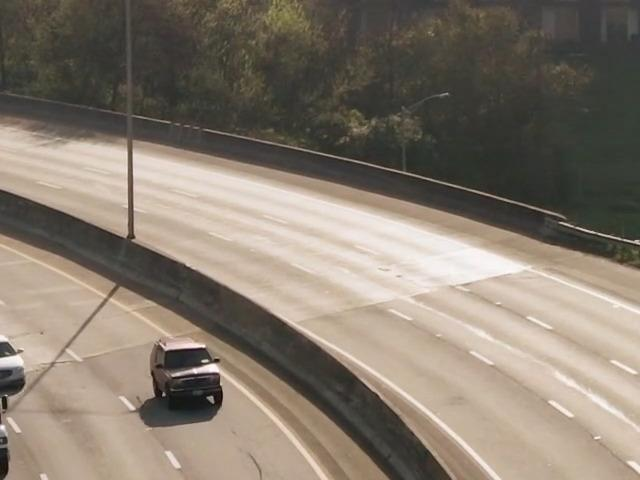car: (0, 308, 37, 384)
truck: (0, 379, 30, 480)
van: (150, 333, 237, 420)
